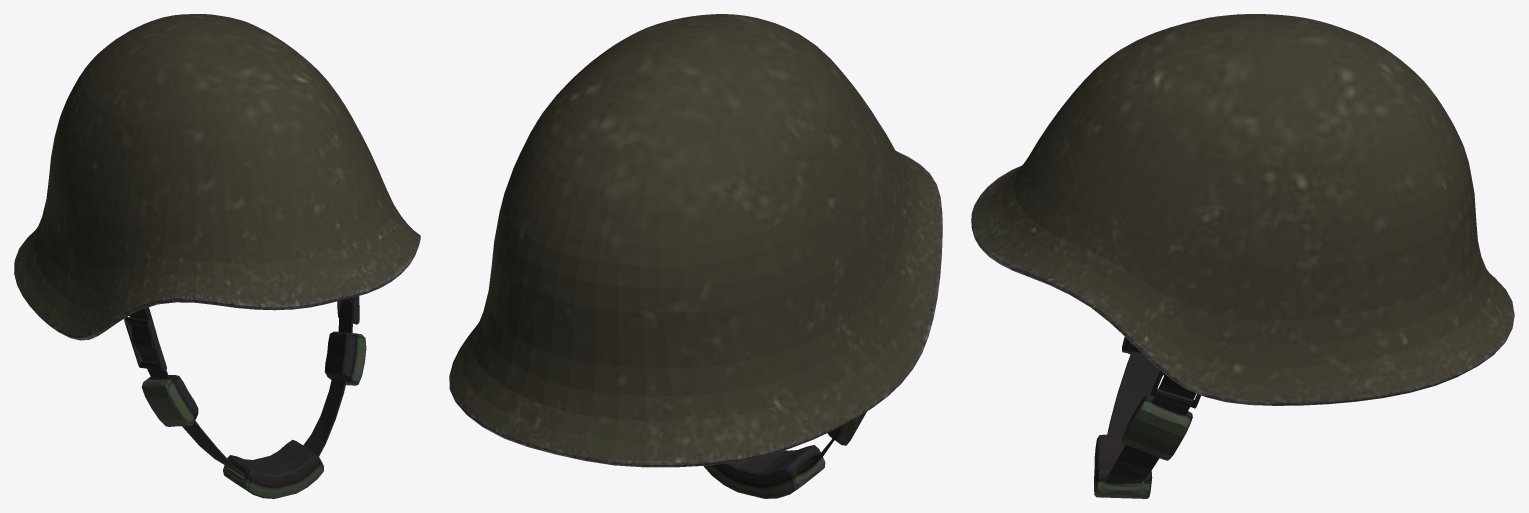
The model's file is mhw_mindfront_helmet_kz45.glb.
3 renders of one model, left to right at view 1: azimuth 30°, elevation 25°; view 2: azimuth 150°, elevation 25°; view 3: azimuth 270°, elevation 25°, orthographic. The views are drawn at different scales.
Parts seen in each view (by area): view 1: mhw_mindfront_helmet_kz45; view 2: mhw_mindfront_helmet_kz45; view 3: mhw_mindfront_helmet_kz45.
Boxes of the visible parts, bbox=[...] form: mhw_mindfront_helmet_kz45: bbox=[14, 14, 420, 498]; mhw_mindfront_helmet_kz45: bbox=[449, 14, 942, 498]; mhw_mindfront_helmet_kz45: bbox=[971, 14, 1514, 498].
Bounding box in the file's own units: 0.2402 × 0.2953 × 0.3145.
Materials: 1 (1 with a texture image).
